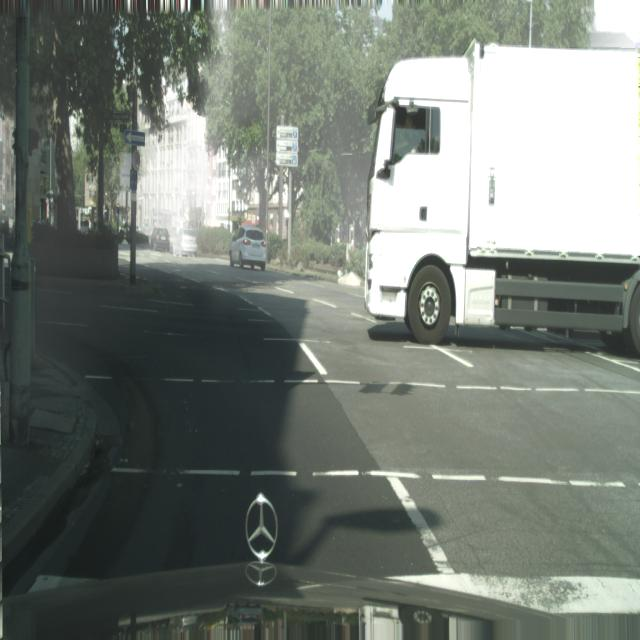rider: (363, 39, 639, 354)
truck: (229, 225, 267, 271), (178, 228, 198, 258), (150, 226, 171, 252)
